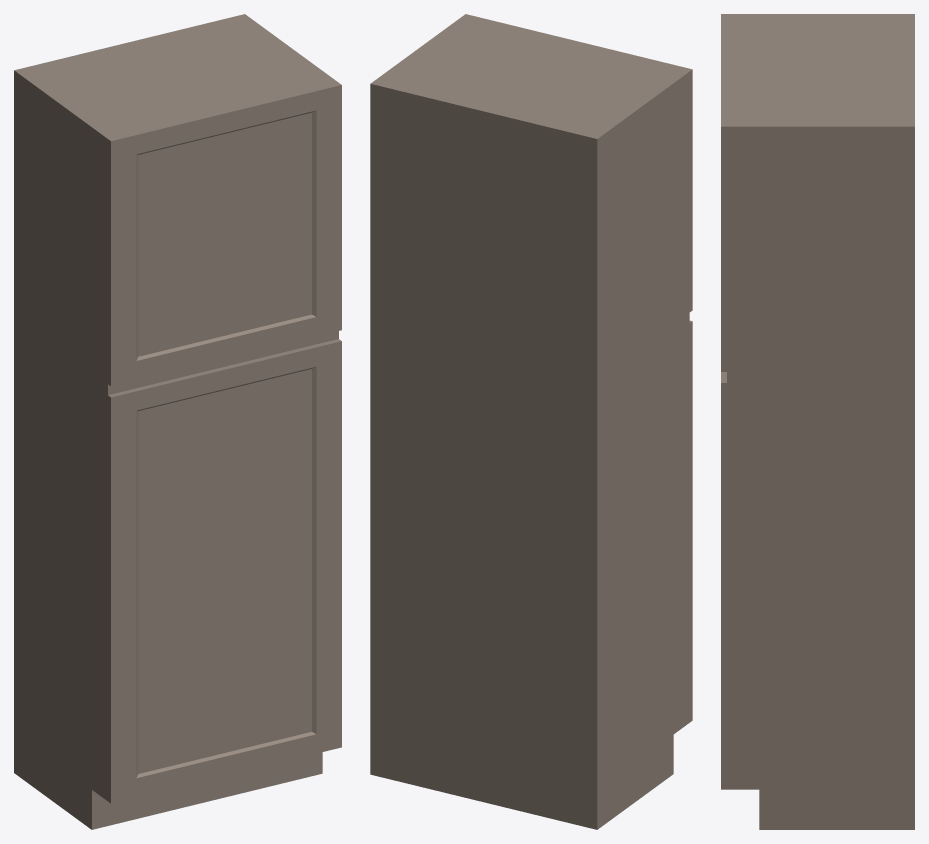
The model's file is Universal-Design-Utility-Cabinet-24-Deep_std_001_W33in_2D.glb.
3 renders of one model, left to right at view 1: azimuth 30°, elevation 25°; view 2: azimuth 150°, elevation 25°; view 3: azimuth 270°, elevation 25°, orthographic.
Parts seen in each view (by area): view 1: Universal-Design-Utility-Cabinet-24-Deep.std.001_W33in_2D; view 2: Universal-Design-Utility-Cabinet-24-Deep.std.001_W33in_2D; view 3: Universal-Design-Utility-Cabinet-24-Deep.std.001_W33in_2D.
Boxes of the visible parts, bbox=[...] form: Universal-Design-Utility-Cabinet-24-Deep.std.001_W33in_2D: bbox=[14, 14, 341, 829]; Universal-Design-Utility-Cabinet-24-Deep.std.001_W33in_2D: bbox=[370, 14, 692, 829]; Universal-Design-Utility-Cabinet-24-Deep.std.001_W33in_2D: bbox=[721, 14, 914, 829].
Size of the model in its own units: 0.8382 by 2.44 by 0.6096.
